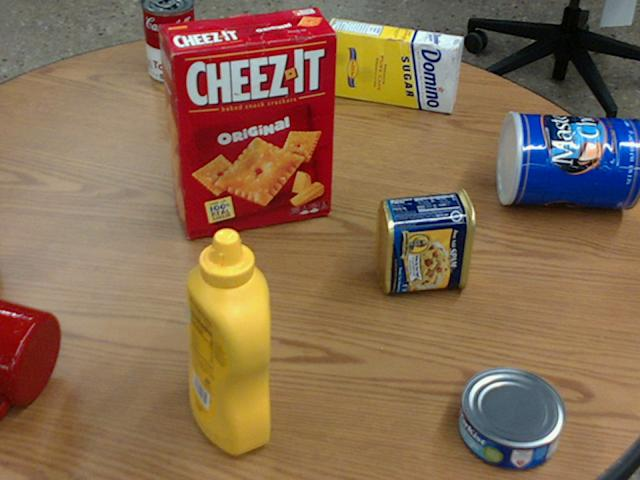cracker_box: (158, 8, 336, 238)
master_chef_can: (496, 111, 639, 209)
mug: (0, 297, 60, 416)
mustard_bottle: (185, 228, 268, 453)
potted_meat_can: (375, 187, 475, 293)
sugar_box: (322, 17, 465, 111)
tomato_soup_can: (142, 0, 198, 82)
tuna_fish_can: (457, 366, 562, 468)
